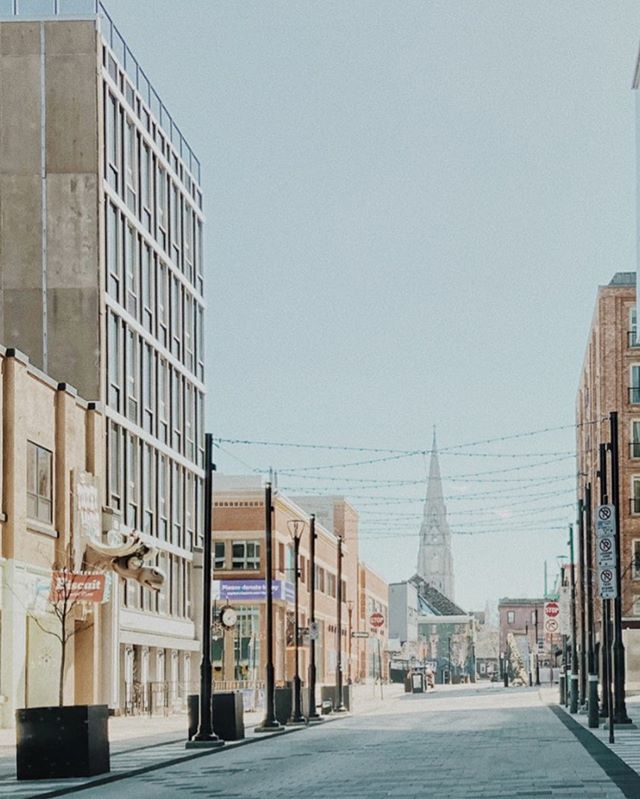building: (85, 19, 217, 738), (1, 376, 116, 799), (218, 482, 394, 681), (577, 275, 640, 671), (405, 416, 464, 604)
sky: (217, 7, 633, 496)
